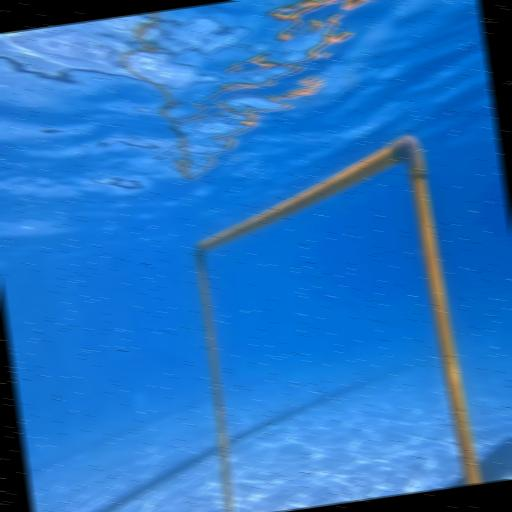gate: (174, 128, 482, 512)
